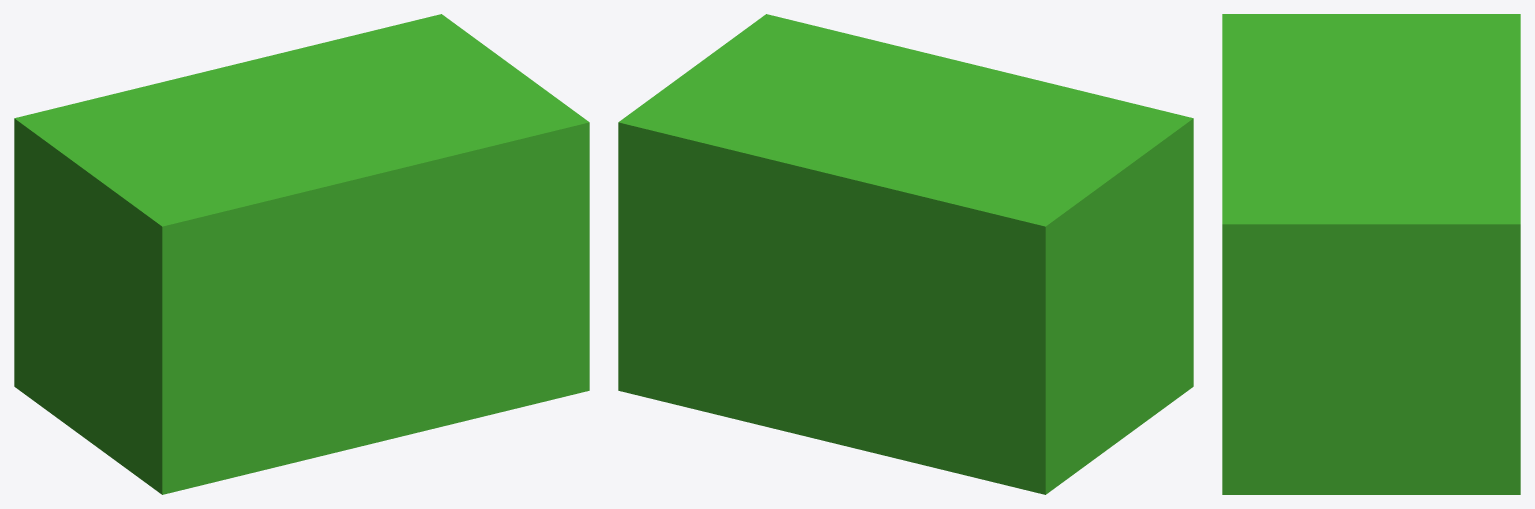
File: rec1.fbx
3 renders of one model, left to right at view 1: azimuth 30°, elevation 25°; view 2: azimuth 150°, elevation 25°; view 3: azimuth 270°, elevation 25°, orthographic.
Visible parts, largest first — view 1: pCube5; view 2: pCube5; view 3: pCube5.
Boxes of the visible parts, bbox=[...] form: pCube5: bbox=[14, 14, 589, 494]; pCube5: bbox=[618, 14, 1193, 494]; pCube5: bbox=[1222, 14, 1520, 494].
Bounding box in the file's own units: 2.5 × 1.5 × 1.5.
